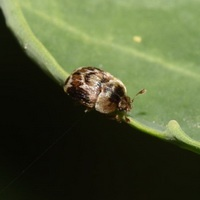insect: (64, 67, 132, 113)
